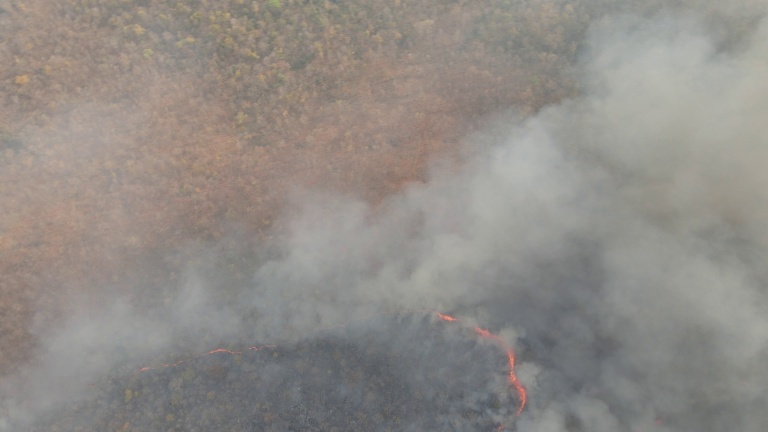fire: (470, 322, 532, 432), (141, 345, 275, 371), (391, 293, 458, 329)
smoke: (411, 120, 713, 407), (36, 189, 402, 416), (594, 21, 768, 368)
